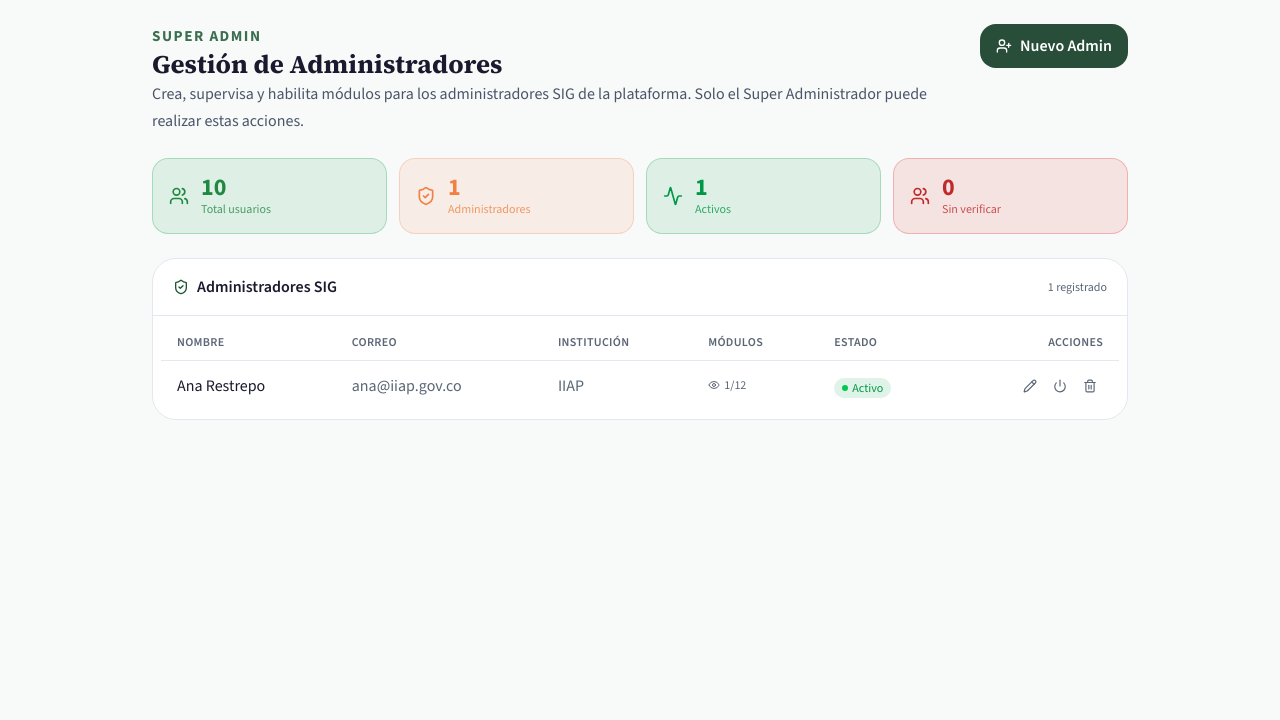
Scenario: GestionAdmins — permisos por módulo › "Otorgar acceso a todo" marca Ver en todos los módulos
This screenshot has width=1280, height=720.
Click the button named "Editar módulos de Ana Restrepo" at coordinates (1030, 386), box left=1017, top=373, right=1043, bottom=399
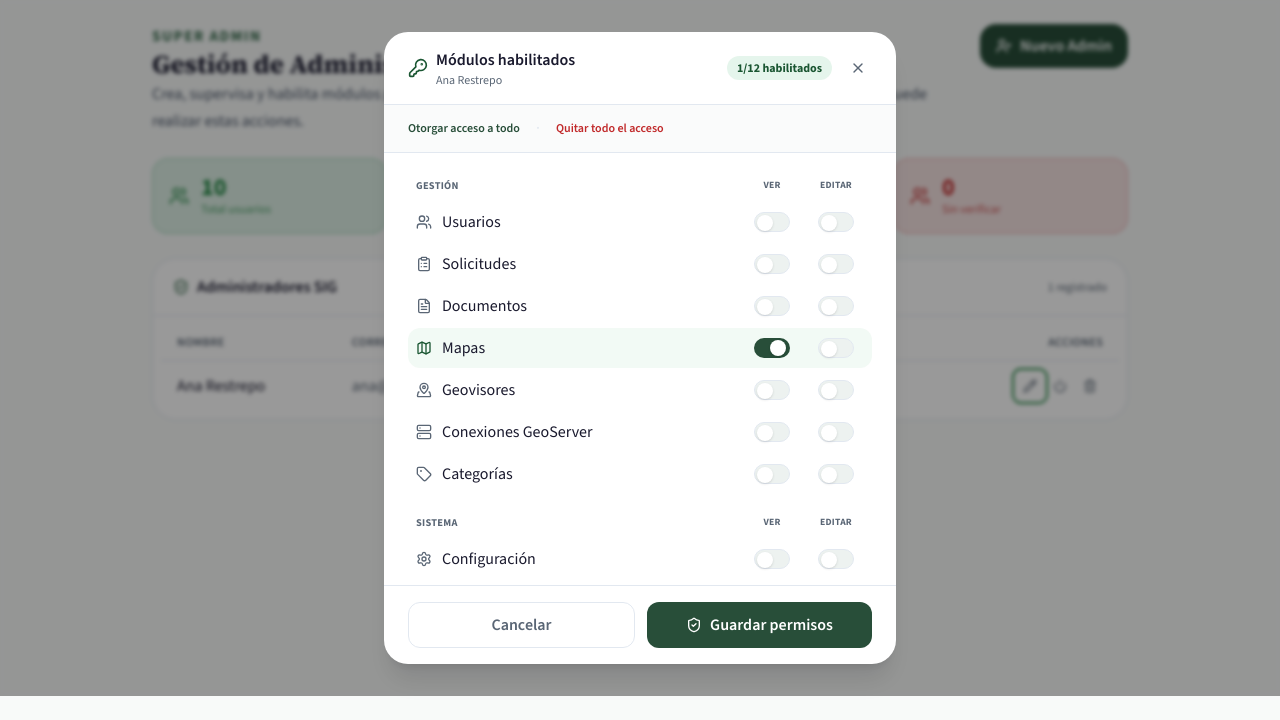
Click the button "Otorgar acceso a todo" at coordinates (464, 128), box left=408, top=120, right=520, bottom=136
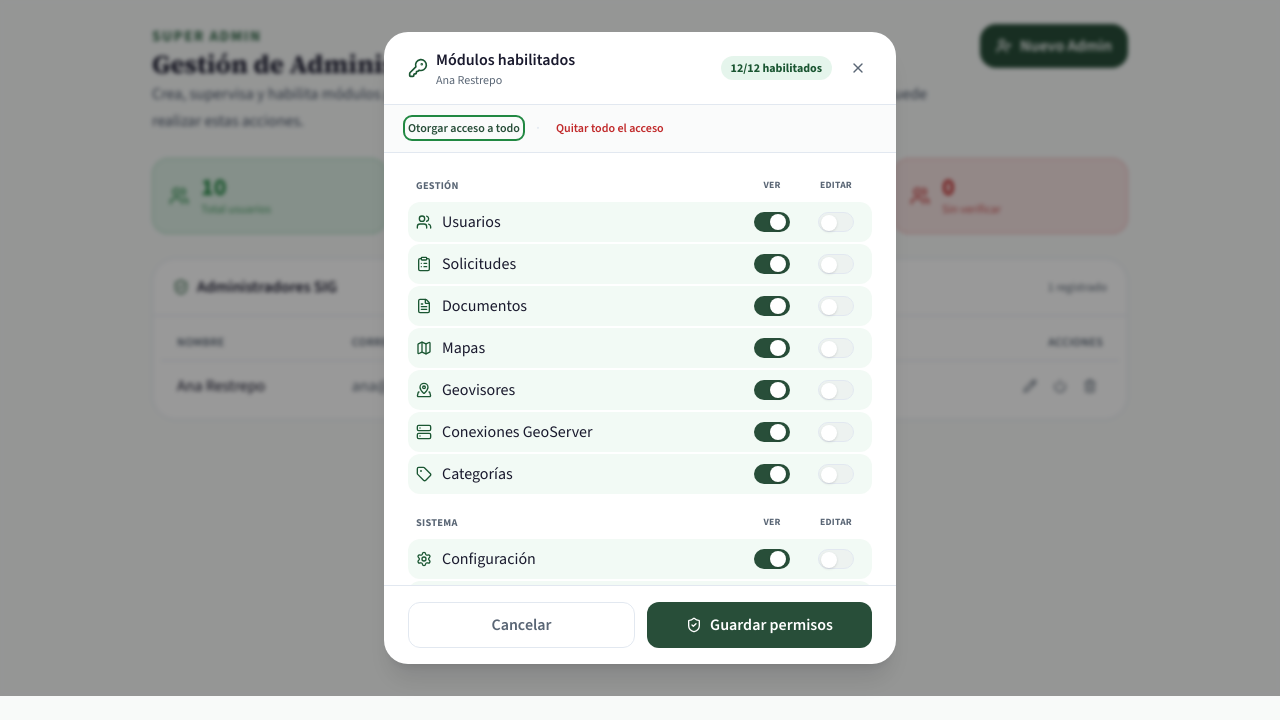
Expected: the switch named "Ver Usuarios" is checked, left=754, top=212, right=790, bottom=232
